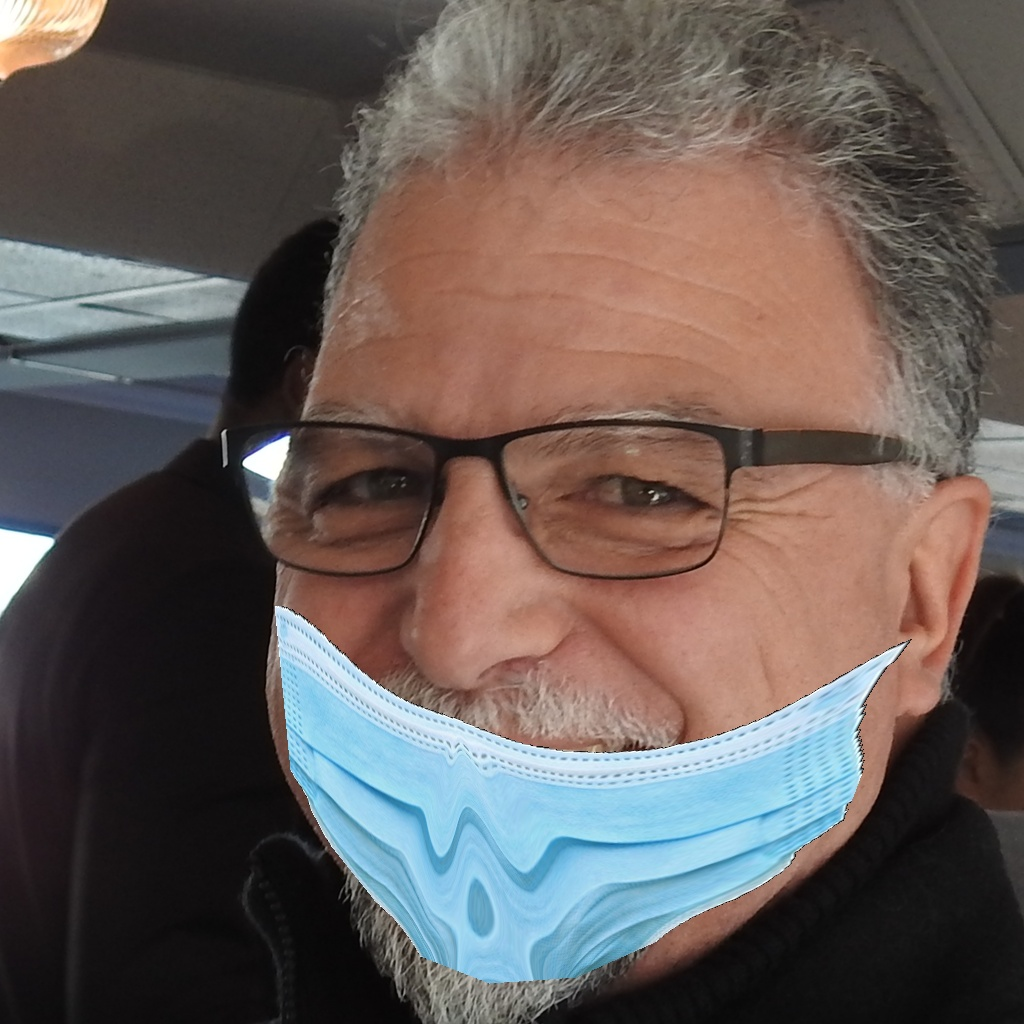mask_weared_incorrect: (203, 348, 951, 1002)
